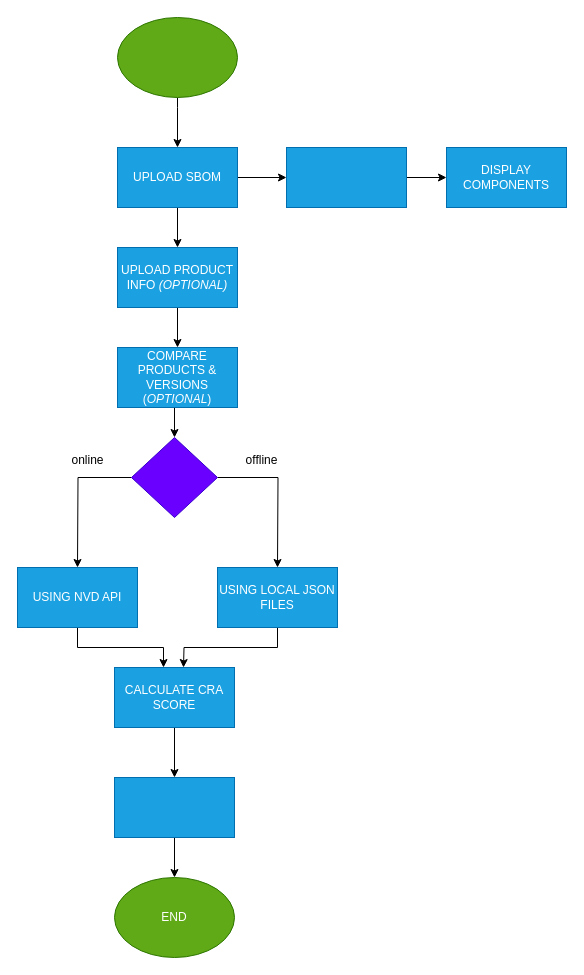
Some shapes in this 584 by 975 pixel diagram are drawn without their labels. The centre of each missing label's shape, as x and y in pixels:
"CVE SCAN" belongs at point 174,477.
"GENERATE PDF REPORT" belongs at point 174,807.
"PARSE SBOM" belongs at point 346,177.
"START" belongs at point 177,57.
